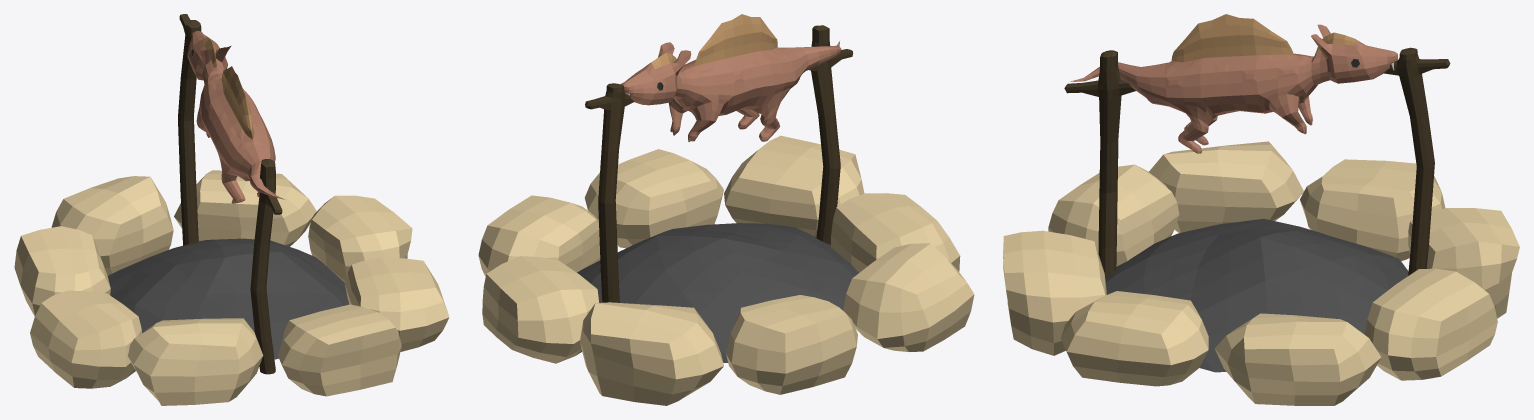
Rendered from Firepit.fbx.
3 views of the same model, side by side, from view 1: azimuth 30°, elevation 25°; view 2: azimuth 150°, elevation 25°; view 3: azimuth 270°, elevation 25° (orthographic). The views are drawn at different scales.
Parts seen in each view (by area): view 1: Cube.007; view 2: Cube.007; view 3: Cube.007.
Part boxes in pixels (bbox=[...]): Cube.007: bbox=[14, 14, 449, 405]; Cube.007: bbox=[478, 14, 974, 405]; Cube.007: bbox=[1003, 14, 1519, 405].
Bounding box in the file's own units: 305 × 204 × 313.
